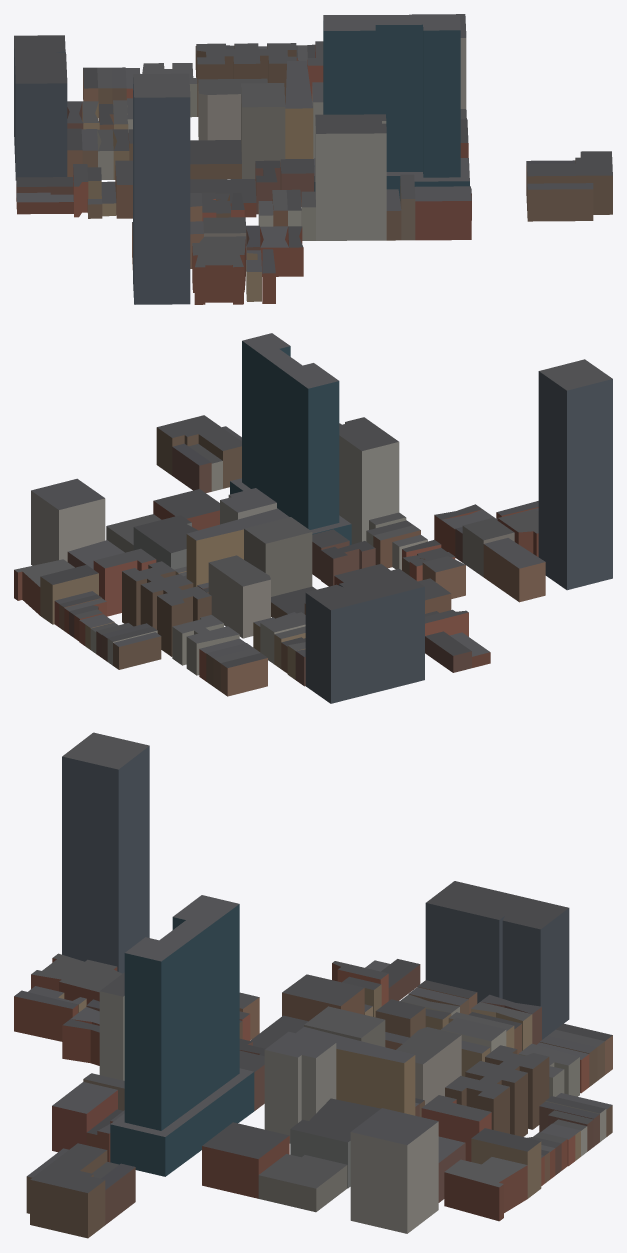
The model's file is -2_0.far.glb.
3 renders of one model, top to bottom at view 1: azimuth 30°, elevation 25°; view 2: azimuth 150°, elevation 25°; view 3: azimuth 270°, elevation 25°, orthographic. The views are drawn at different scales.
Visible parts, largest first — view 1: -2_0_far; view 2: -2_0_far; view 3: -2_0_far.
Part boxes in pixels (left/top/right/bottom): -2_0_far: left=14, top=14, right=612, bottom=304; -2_0_far: left=14, top=333, right=612, bottom=703; -2_0_far: left=14, top=732, right=612, bottom=1238.
Bounding box in the file's own units: 295 × 123 × 280.
